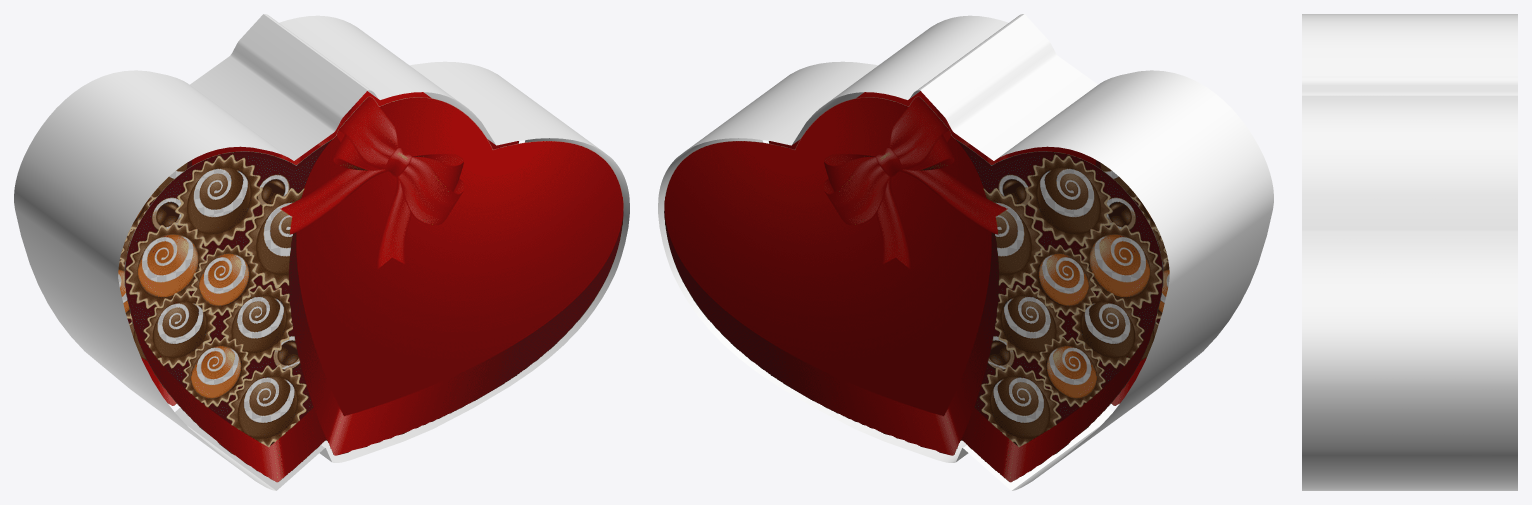
Rendered from Слой 2.dae.
The picture shows the model from 3 angles, left to right: view 1: azimuth 30°, elevation 25°; view 2: azimuth 150°, elevation 25°; view 3: azimuth 270°, elevation 25°; orthographic projection. The views are drawn at different scales.
Visible parts, largest first — view 1: Слой_2; view 2: Слой_2; view 3: Слой_2.
Boxes of the visible parts, box(x1,y1,x2,y2) form: Слой_2: box(14, 14, 629, 490); Слой_2: box(658, 14, 1273, 490); Слой_2: box(1302, 14, 1517, 490).
Bounding box in the file's own units: 791 × 559 × 279.
Materials: 3 (3 with a texture image).
